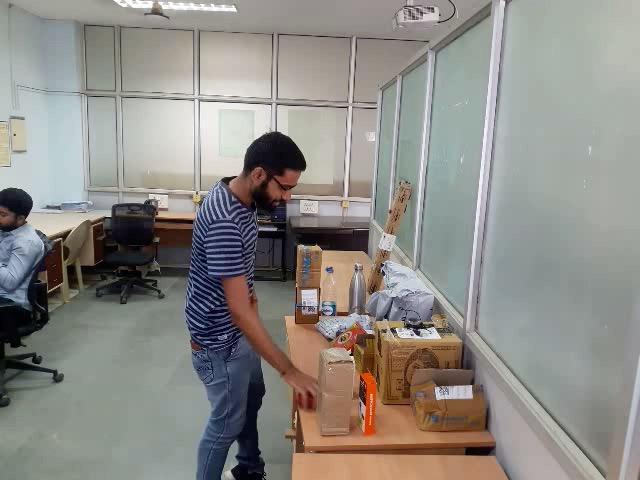Normal: (89, 62, 640, 479)
